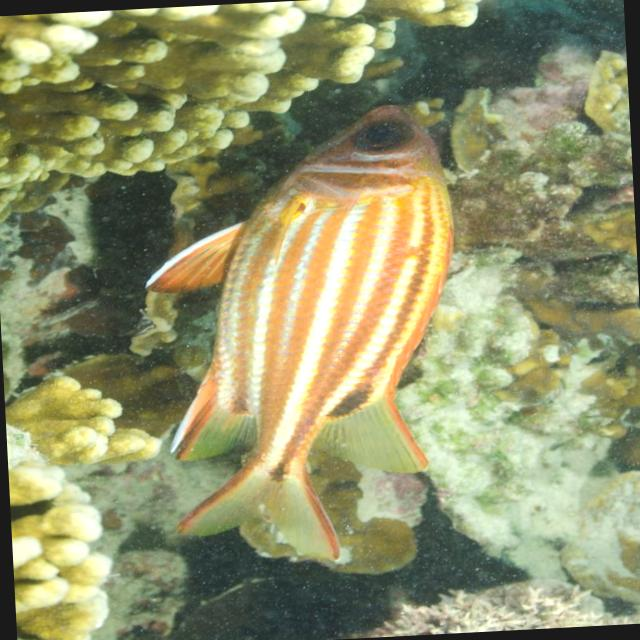Asker Baligi: (123, 84, 493, 574)
